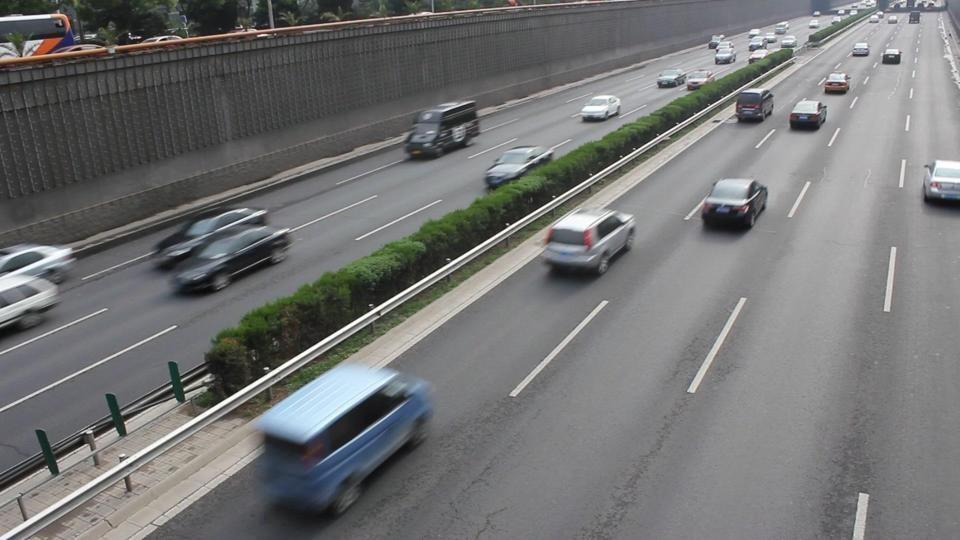car: (251, 363, 435, 519), (159, 215, 295, 295), (541, 207, 638, 276), (404, 98, 480, 160), (0, 270, 62, 331), (0, 242, 78, 287), (701, 177, 768, 229), (483, 145, 555, 193), (922, 160, 960, 204), (735, 88, 775, 122), (787, 99, 829, 130), (580, 94, 622, 121), (821, 72, 850, 95), (686, 70, 716, 91), (656, 68, 687, 88), (712, 41, 737, 65), (882, 48, 902, 65), (852, 41, 870, 56)
